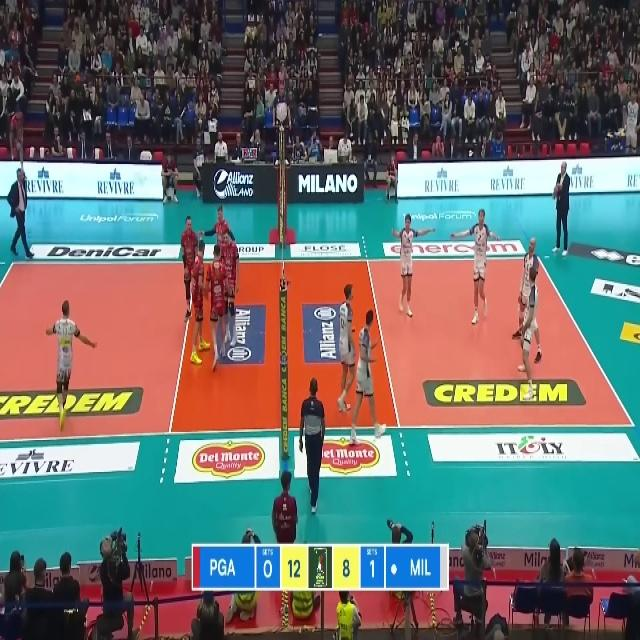volleyball court: (0, 255, 636, 434)
